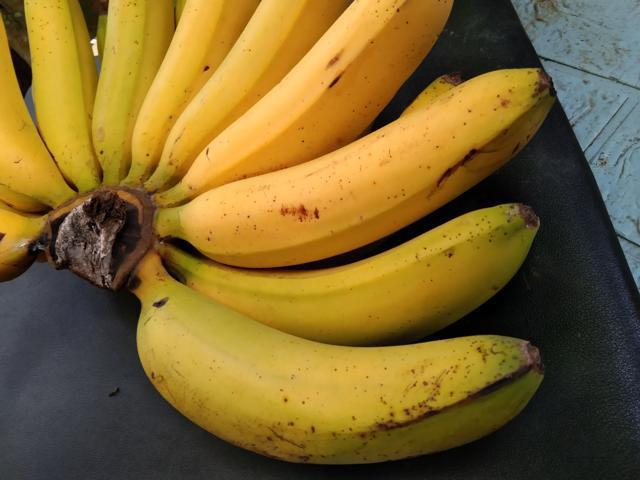freshripe: (159, 0, 442, 199), (197, 194, 540, 338)
ripe: (145, 280, 544, 479), (193, 67, 557, 256)
